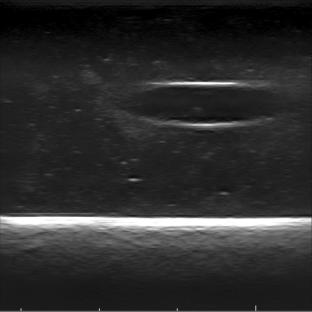vessel: (128, 80, 283, 130)
